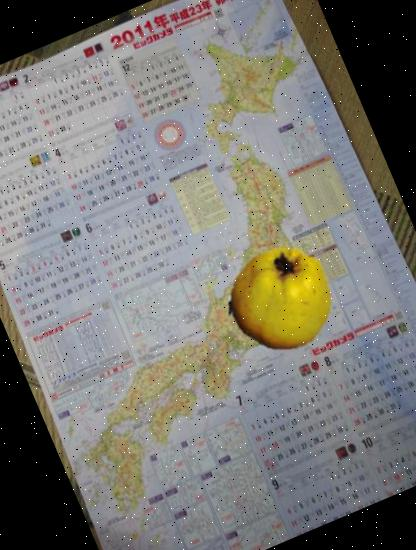Quince: (212, 230, 351, 369)
